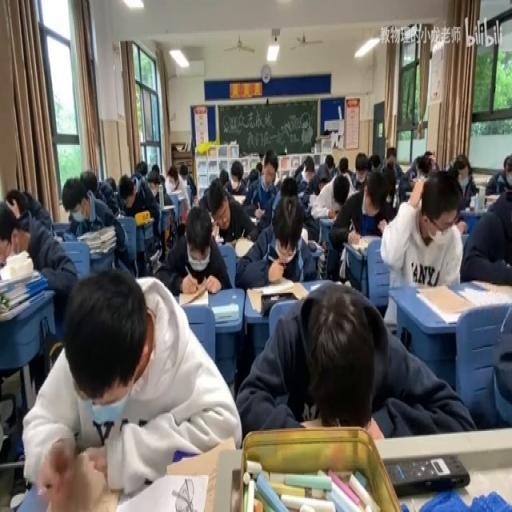calculator: (34, 450, 126, 509), (115, 469, 209, 512), (458, 279, 512, 307), (251, 279, 293, 294), (178, 287, 207, 307), (212, 302, 238, 322), (318, 215, 336, 243), (347, 235, 374, 253), (234, 236, 254, 258), (52, 219, 70, 236), (306, 239, 323, 252), (178, 198, 188, 219), (230, 193, 246, 205), (484, 194, 499, 206), (148, 248, 160, 263), (299, 224, 309, 242), (308, 194, 318, 208), (225, 238, 237, 248), (310, 280, 323, 289), (248, 216, 258, 225), (162, 204, 175, 210), (215, 235, 224, 243), (54, 235, 62, 243)
paper: (24, 266, 238, 499), (235, 282, 472, 440), (379, 168, 464, 330), (0, 192, 77, 320), (234, 191, 318, 287), (154, 203, 230, 296), (63, 175, 130, 276), (329, 166, 395, 266), (461, 158, 512, 286), (466, 296, 510, 426), (399, 150, 434, 200), (304, 154, 334, 196), (221, 158, 246, 196), (6, 186, 31, 219), (382, 145, 403, 181), (177, 161, 195, 202), (143, 159, 165, 191), (354, 150, 372, 188), (260, 150, 278, 188), (118, 174, 136, 204), (79, 169, 98, 195), (333, 176, 349, 205), (279, 176, 298, 198), (484, 173, 502, 195), (453, 158, 469, 180), (134, 160, 148, 178), (368, 154, 381, 172), (166, 172, 178, 191), (426, 154, 438, 172), (247, 166, 258, 184), (105, 176, 117, 192), (338, 155, 348, 174), (293, 160, 303, 178), (502, 158, 510, 179), (131, 174, 142, 189), (418, 165, 428, 179), (318, 180, 326, 194), (256, 162, 262, 174)
person: (384, 452, 470, 494), (259, 292, 297, 316)
